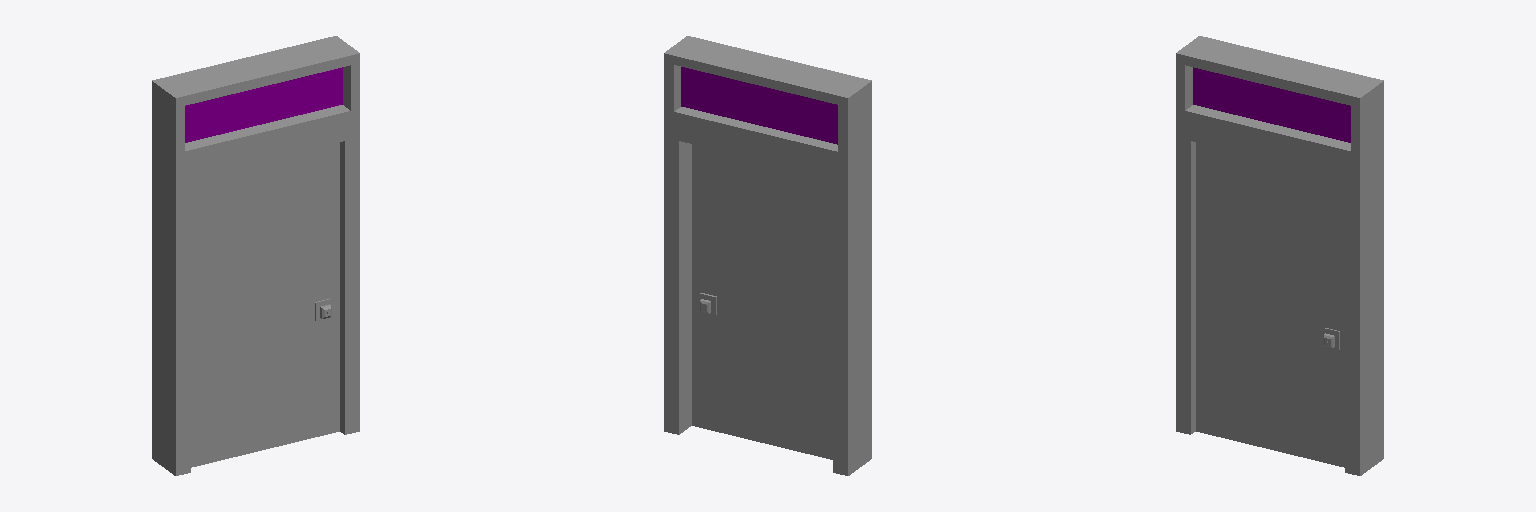
The model's file is Buildings02_door.obj.
3 views of the same model, side by side, from view 1: azimuth 30°, elevation 25°; view 2: azimuth 150°, elevation 25°; view 3: azimuth 330°, elevation 25° (orthographic).
Visible parts, largest first — view 1: Plane.004; view 2: Plane.004; view 3: Plane.004.
Part boxes in pixels (bbox=[...]): Plane.004: bbox=[152, 36, 359, 475]; Plane.004: bbox=[664, 36, 871, 475]; Plane.004: bbox=[1176, 36, 1383, 475].
Size of the model in its own units: 1.48 by 2.9 by 0.3351.